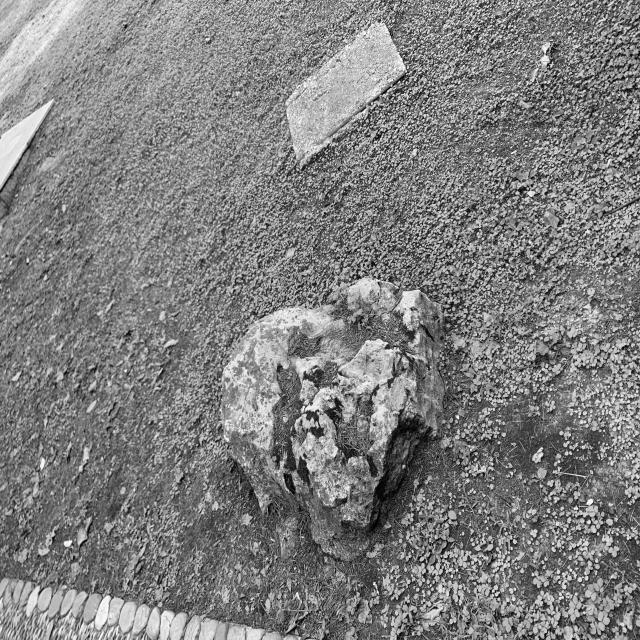Stone: (222, 279, 443, 559)
